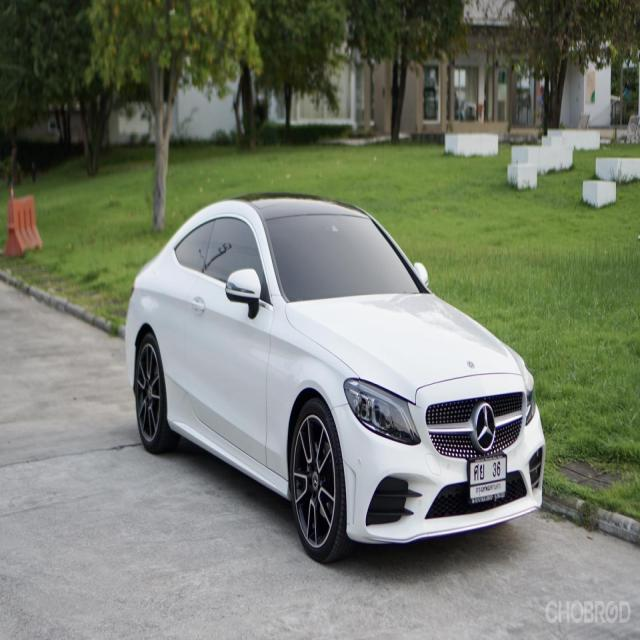license_plate: (466, 451, 511, 504)
